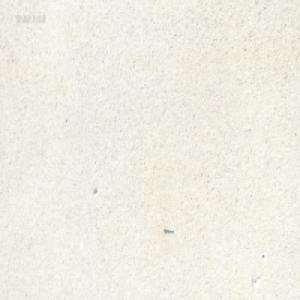Nail: (163, 225, 173, 233)
